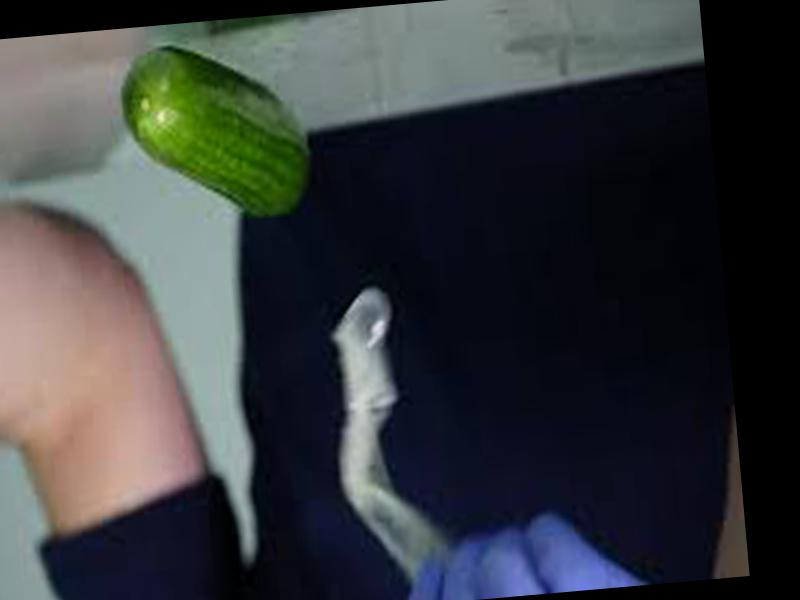Cucumber: (116, 34, 313, 227)
